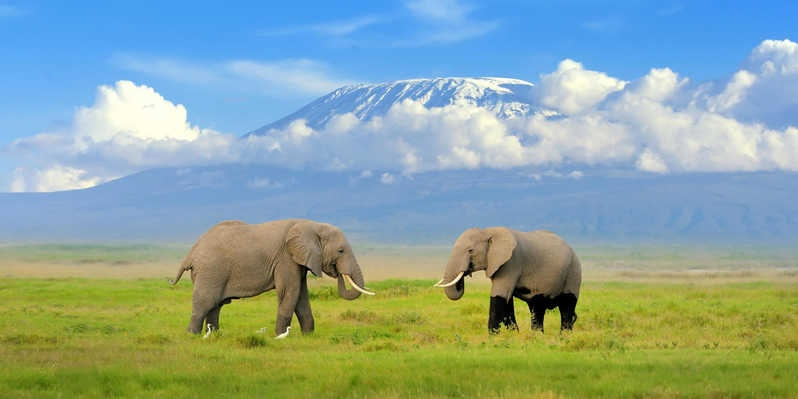elephant: (273, 275, 474, 393), (514, 275, 663, 383)
